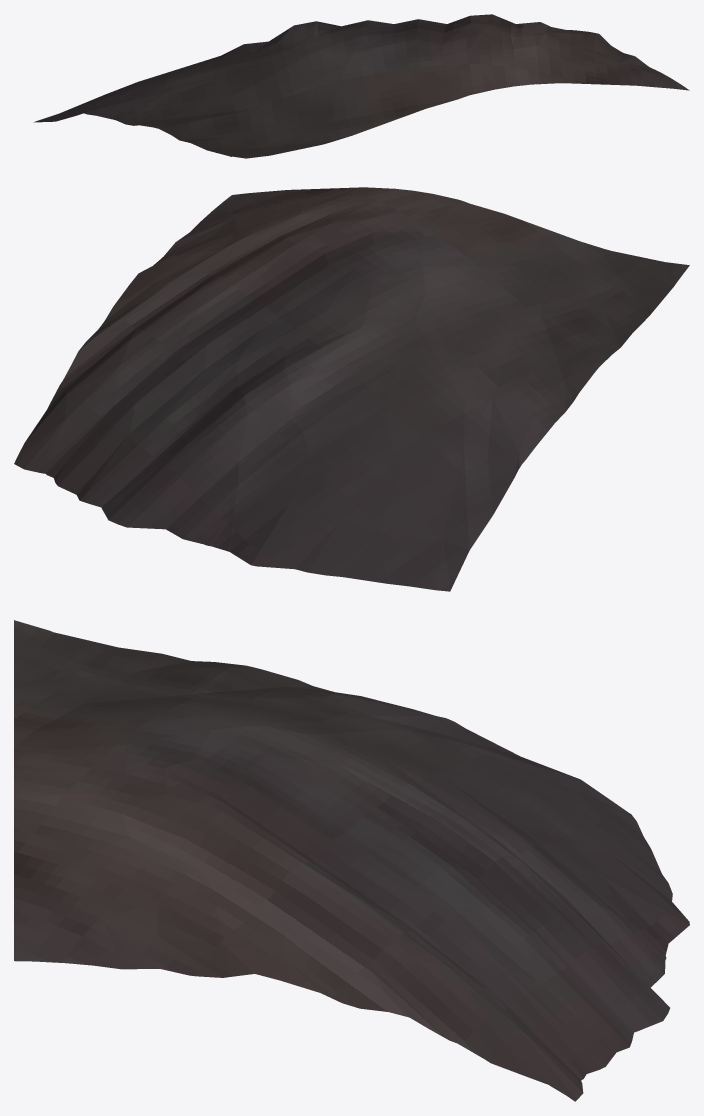
3 renders of one model, top to bottom at view 1: azimuth 30°, elevation 25°; view 2: azimuth 150°, elevation 25°; view 3: azimuth 270°, elevation 25°, orthographic. The views are drawn at different scales.
Size of the model in its own units: 42.87 by 14.7 by 42.58.
1 material, 1 textured.
